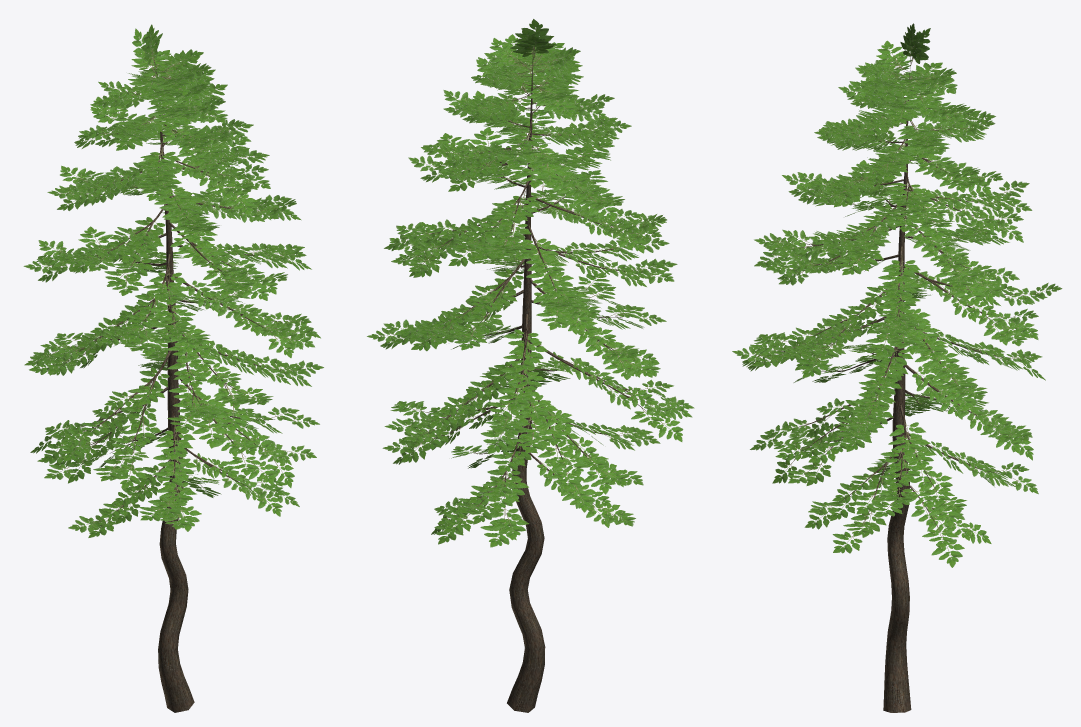
Rendered from forest_tree.glb.
The picture shows the model from 3 angles, left to right: view 1: azimuth 30°, elevation 25°; view 2: azimuth 150°, elevation 25°; view 3: azimuth 270°, elevation 25°; orthographic projection. The views are drawn at different scales.
Parts seen in each view (by area): view 1: leaves, tree; view 2: leaves, tree; view 3: leaves, tree.
Part boxes in pixels (x1,y1,x2,y2): leaves: [23, 24, 323, 537]; tree: [64, 60, 281, 712]; leaves: [367, 19, 694, 547]; tree: [422, 59, 646, 712]; leaves: [732, 23, 1062, 567]; tree: [774, 60, 1024, 712].
Bounding box in the file's own units: 5.88 × 13.21 × 5.92.
Materials: 2 (2 with a texture image).
